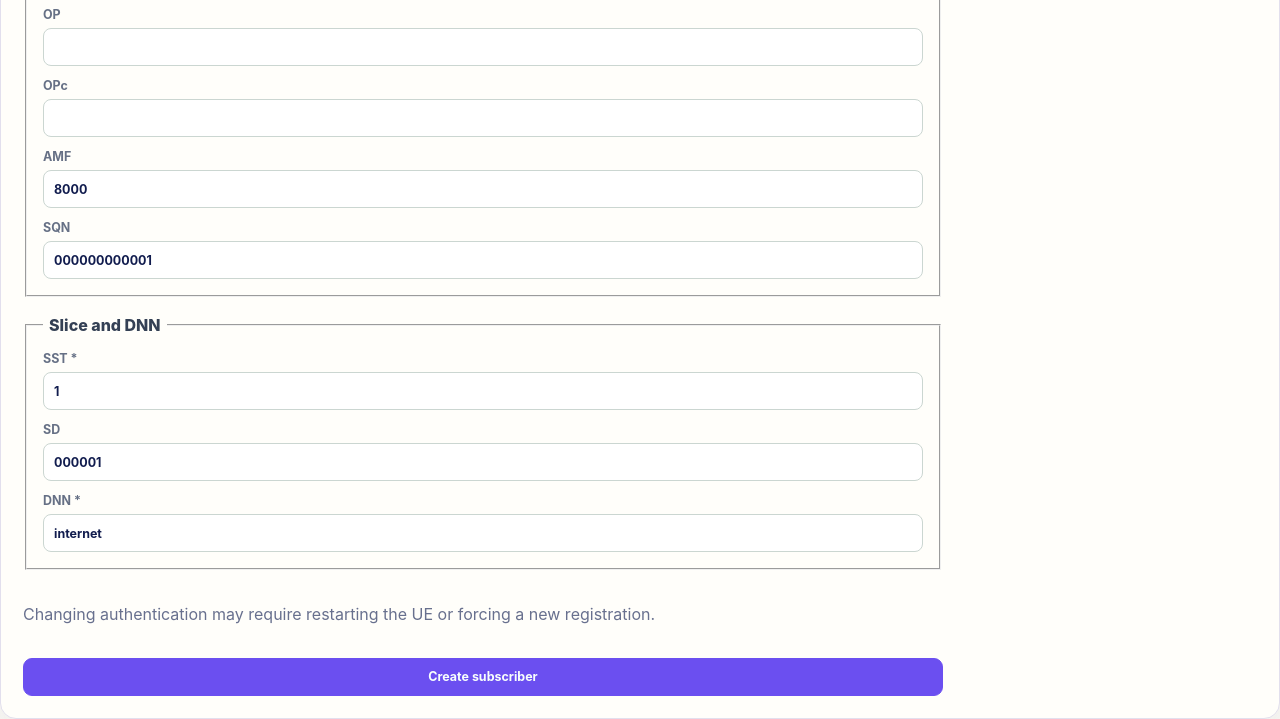
Test case: Subscriber management › validates form fields before creation
(page scrolled)
Click the button "Create subscriber".
click(483, 677)  # box [23, 658, 943, 696]
(page scrolled)
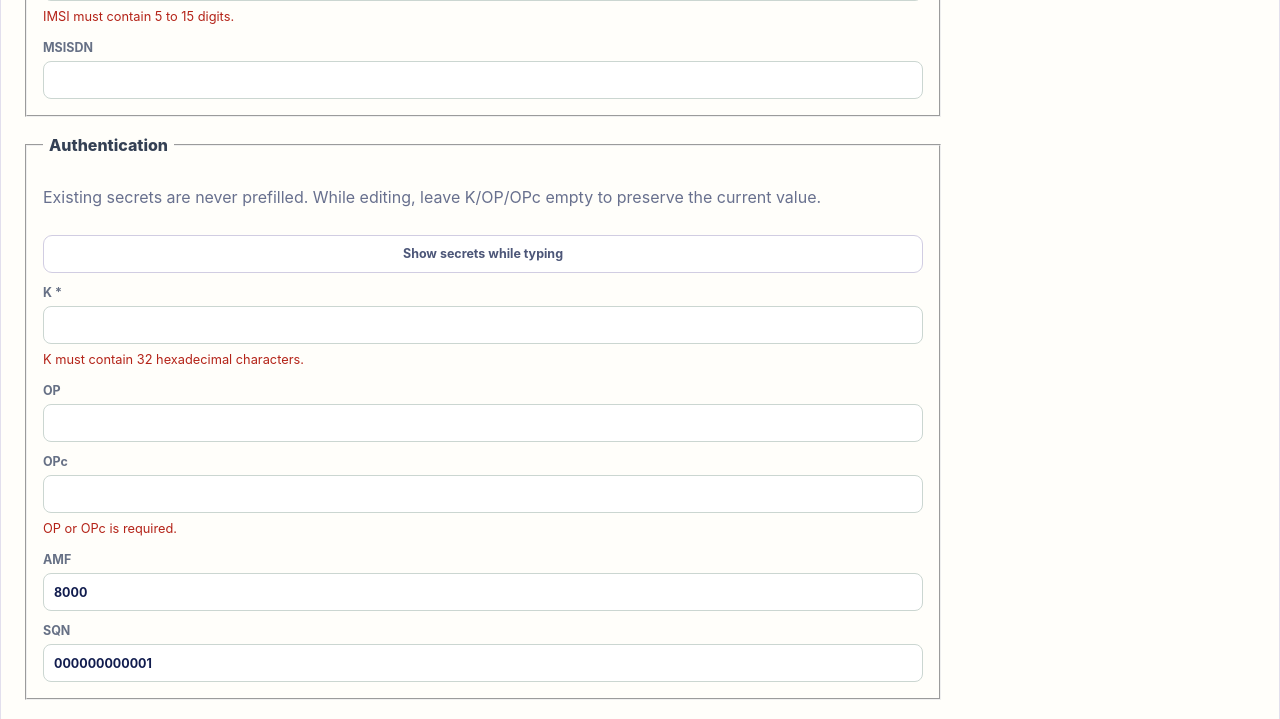
expect the text "IMSI must contain 5 to 15 digits." is shown: met, box [43, 9, 234, 24]
expect the text "K must contain 32 hexadecimal characters." is shown: met, box [43, 352, 304, 367]
